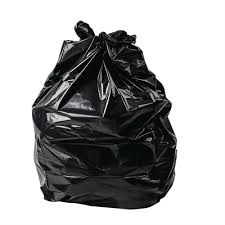Trash: (25, 15, 186, 211)
